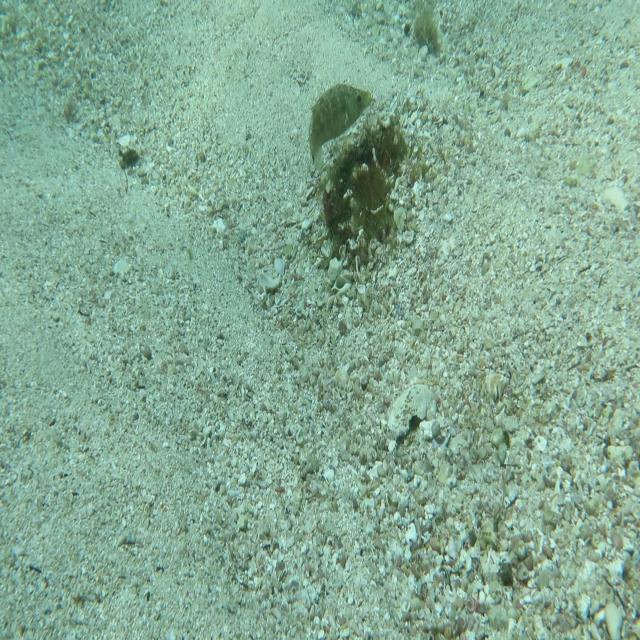AM: (308, 82, 373, 174)
core_nest: (371, 136, 402, 174)
nest: (318, 118, 417, 262)
nest_material: (370, 92, 378, 101)
vegetation: (413, 4, 445, 56), (120, 147, 139, 173)
